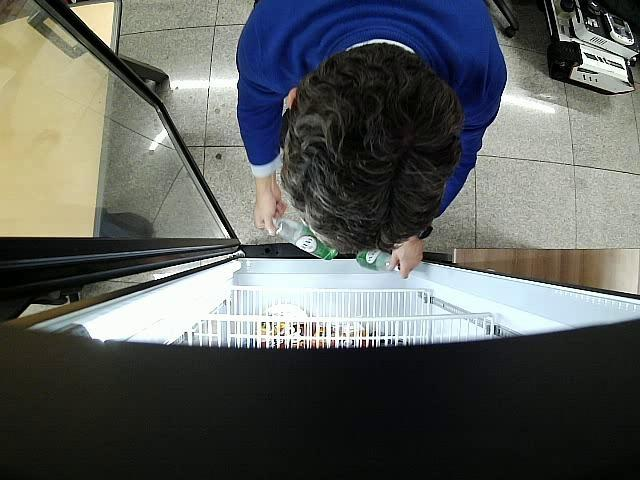18_trevi: (272, 218, 337, 259), (358, 248, 400, 271)
